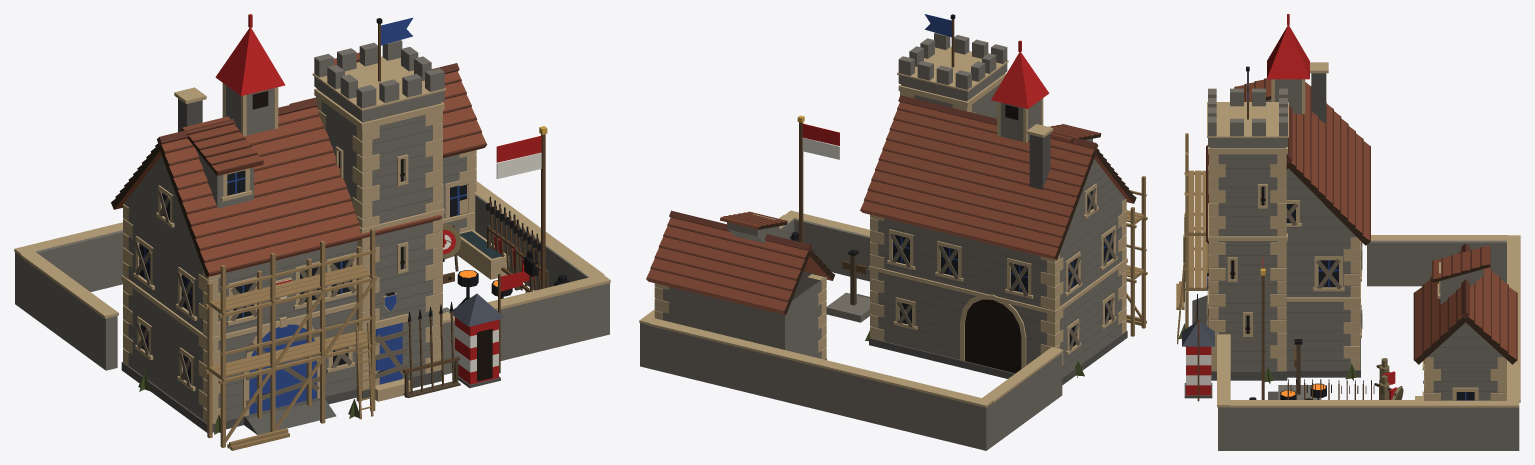
Rendered from gardist.glb.
The picture shows the model from 3 angles, left to right: view 1: azimuth 30°, elevation 25°; view 2: azimuth 150°, elevation 25°; view 3: azimuth 270°, elevation 25°; orthographic projection. The views are drawn at different scales.
Parts seen in each view (by area): view 1: Haus, Stufe1, Geruest, Stufe3, Stufe2, Leerstand, Fahne; view 2: Haus, Stufe1, Stufe3, Leerstand, Geruest, Stufe2, Fahne; view 3: Haus, Stufe1, Stufe3, Geruest, Stufe2, Leerstand.
Part boxes in pixels (x1,y1,x2,y2): Haus: [111, 40, 522, 434]; Stufe1: [14, 181, 610, 374]; Geruest: [205, 228, 377, 450]; Stufe3: [215, 14, 547, 306]; Stufe2: [181, 116, 568, 292]; Leerstand: [134, 190, 406, 434]; Fahne: [376, 17, 412, 81]; Haus: [860, 32, 1136, 385]; Stufe1: [639, 210, 1063, 450]; Stufe3: [646, 40, 1049, 360]; Leerstand: [865, 187, 1116, 377]; Geruest: [1126, 176, 1147, 336]; Stufe2: [789, 124, 1101, 241]; Fahne: [924, 14, 955, 67]; Haus: [1182, 62, 1370, 401]; Stufe1: [1217, 235, 1520, 450]; Stufe3: [1260, 14, 1517, 400]; Geruest: [1176, 133, 1208, 346]; Stufe2: [1234, 78, 1397, 399]; Leerstand: [1178, 203, 1362, 383].
Bounding box in the file's own units: 15.93 × 13.39 × 13.58.
